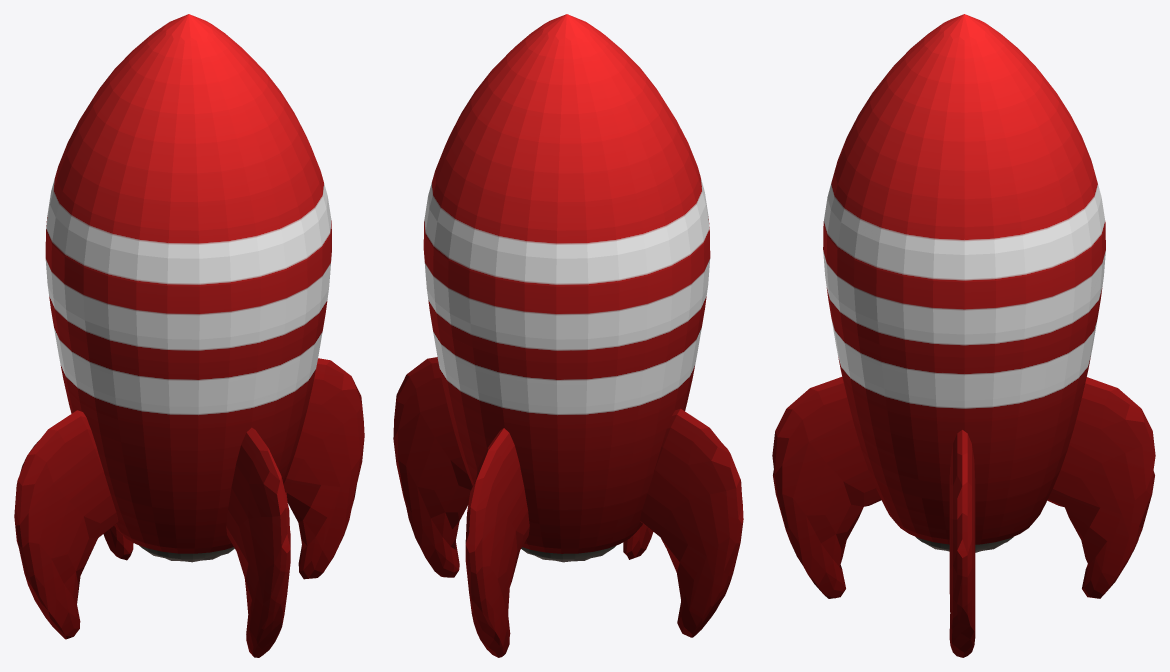
The model's file is Rocket.fbx.
The picture shows the model from 3 angles, left to right: view 1: azimuth 30°, elevation 25°; view 2: azimuth 150°, elevation 25°; view 3: azimuth 270°, elevation 25°; orthographic projection.
Visible parts, largest first — view 1: rocket; view 2: rocket; view 3: rocket.
Part boxes in pixels (bbox=[...]): rocket: bbox=[14, 14, 364, 657]; rocket: bbox=[393, 14, 743, 657]; rocket: bbox=[772, 14, 1155, 657].
Bounding box in the file's own units: 227 × 370 × 220.
